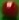brown: (0, 0, 19, 20)
